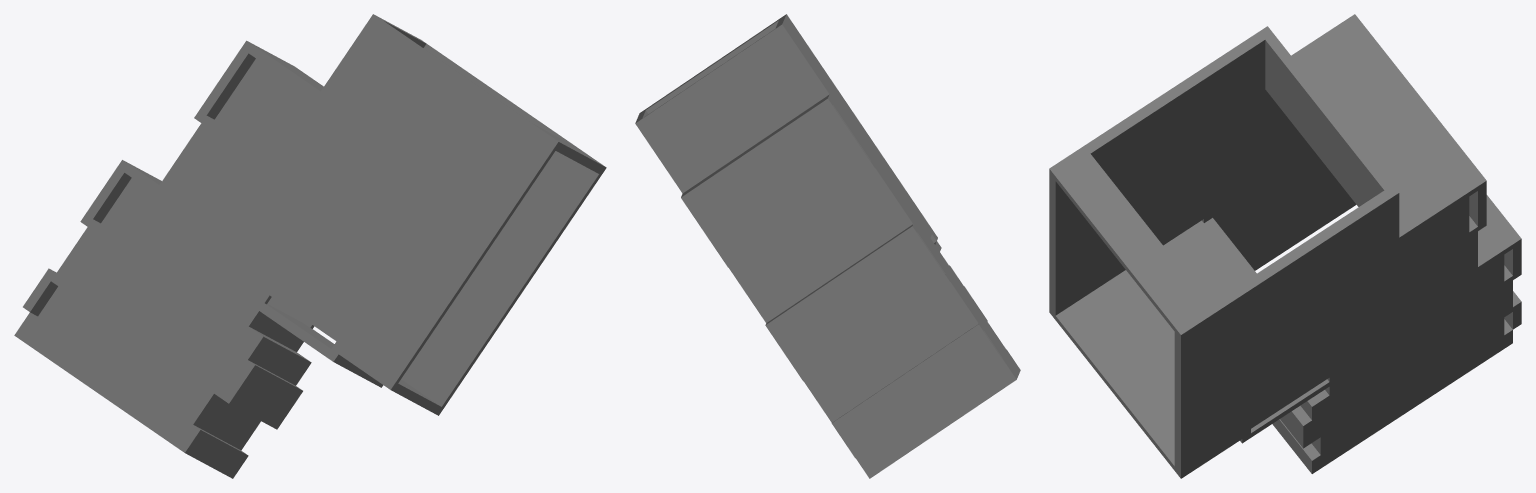
File: tile_3_2.glb
The picture shows the model from 3 angles, left to right: view 1: azimuth 30°, elevation 25°; view 2: azimuth 150°, elevation 25°; view 3: azimuth 270°, elevation 25°; orthographic projection. The views are drawn at different scales.
Parts seen in each view (by area): view 1: universal_minecraft:terracotta:up, universal_minecraft:grass_block:up, universal_minecraft:stone_bricks:north, universal_minecraft:stone_bricks:up, universal_minecraft:stone_bricks:west, universal_minecraft:terracotta:north, universal_minecraft:grass_block:north; view 2: universal_minecraft:stone_bricks:south, universal_minecraft:terracotta:up, universal_minecraft:stone_bricks:west, universal_minecraft:stone_bricks:up; view 3: universal_minecraft:grass_block:down, universal_minecraft:stone_bricks:west, universal_minecraft:terracotta:down, universal_minecraft:stone_bricks:north, universal_minecraft:stone_bricks:down, universal_minecraft:grass_block:west, universal_minecraft:terracotta:west, universal_minecraft:terracotta:north, universal_minecraft:grass_block:north.
Part boxes in pixels (<box>): universal_minecraft:terracotta:up: <box>22,19,552,447</box>; universal_minecraft:grass_block:up: <box>267,44,598,406</box>; universal_minecraft:stone_bricks:north: <box>30,21,606,478</box>; universal_minecraft:stone_bricks:up: <box>14,14,558,452</box>; universal_minecraft:stone_bricks:west: <box>31,15,604,454</box>; universal_minecraft:terracotta:north: <box>265,149,555,383</box>; universal_minecraft:grass_block:north: <box>310,174,601,407</box>; universal_minecraft:stone_bricks:south: <box>635,20,1016,478</box>; universal_minecraft:terracotta:up: <box>782,16,1020,378</box>; universal_minecraft:stone_bricks:west: <box>635,14,978,422</box>; universal_minecraft:stone_bricks:up: <box>782,14,1020,379</box>; universal_minecraft:grass_block:down: <box>1181,197,1504,474</box>; universal_minecraft:stone_bricks:west: <box>1049,14,1521,465</box>; universal_minecraft:terracotta:down: <box>1055,40,1356,315</box>; universal_minecraft:stone_bricks:north: <box>1049,40,1512,478</box>; universal_minecraft:stone_bricks:down: <box>1181,181,1521,478</box>; universal_minecraft:grass_block:west: <box>1210,190,1390,311</box>; universal_minecraft:terracotta:west: <box>1084,32,1264,153</box>; universal_minecraft:terracotta:north: <box>1049,173,1203,315</box>; universal_minecraft:grass_block:north: <box>1174,332,1329,473</box>.
Bounding box in the file's own units: 62.26 × 52.94 × 43.93.
Materials: 18 (18 with a texture image).
